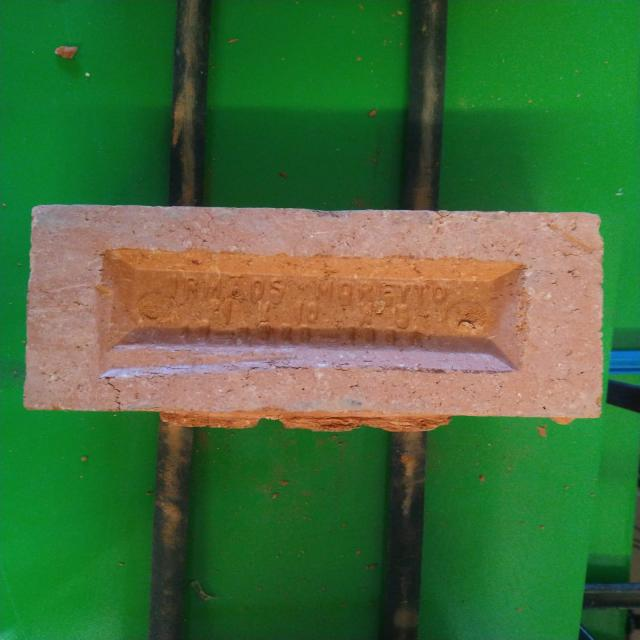bricks_ruin: (23, 206, 605, 433)
